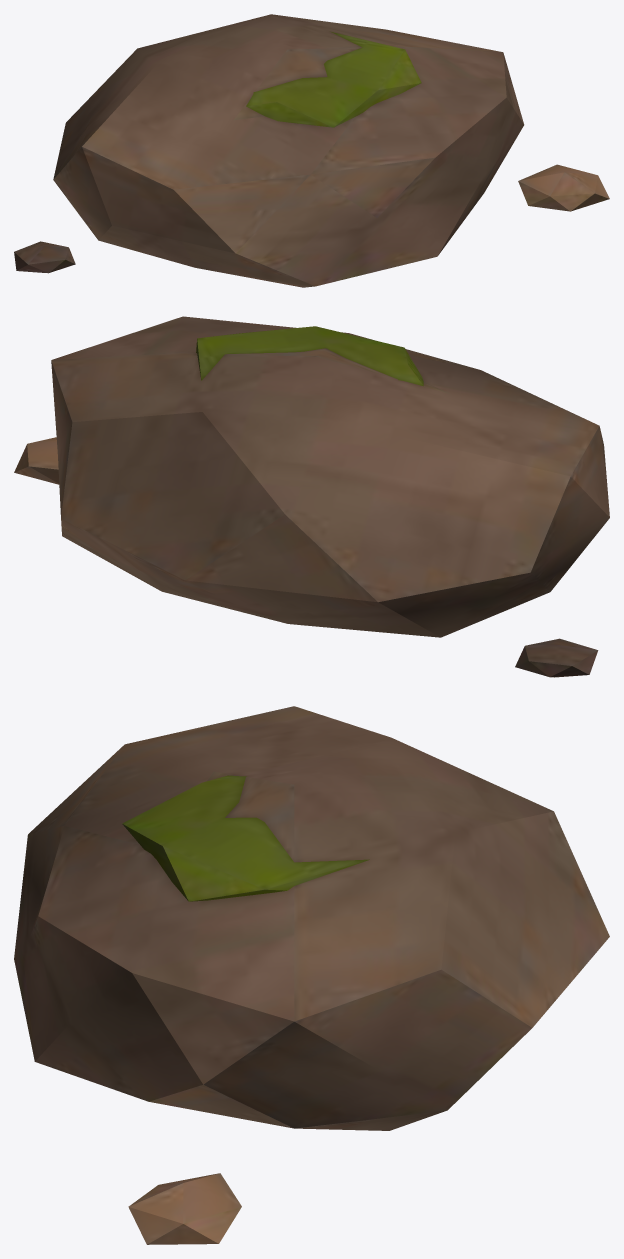
The model's file is bg_desert_rock_2_lod1.glb.
3 renders of one model, top to bottom at view 1: azimuth 30°, elevation 25°; view 2: azimuth 150°, elevation 25°; view 3: azimuth 270°, elevation 25°, orthographic. The views are drawn at different scales.
Parts seen in each view (by area): view 1: body; view 2: body; view 3: body.
Part boxes in pixels (x1,y1,x2,y2): body: (14, 14, 609, 287); body: (14, 316, 609, 677); body: (14, 706, 609, 1244).
Size of the model in its own units: 7.91 by 3 by 5.34.
Materials: 1 (1 with a texture image).
